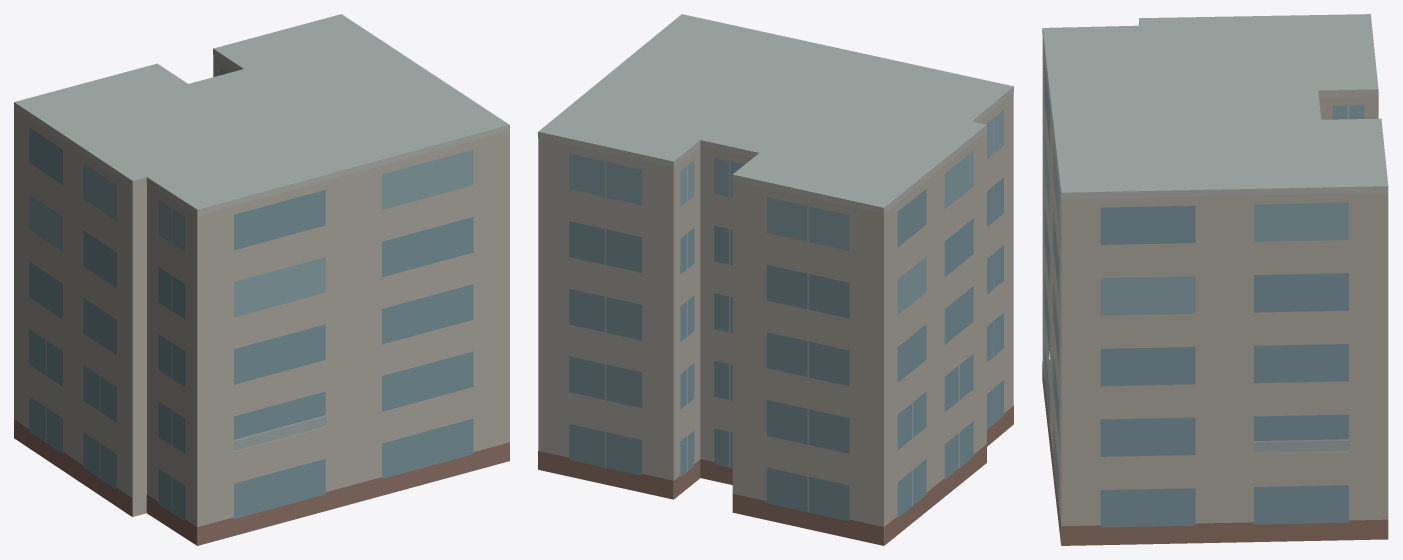
Rendered from survey-upis-32671947.glb.
The picture shows the model from 3 angles, left to right: view 1: azimuth 30°, elevation 25°; view 2: azimuth 150°, elevation 25°; view 3: azimuth 270°, elevation 25°; orthographic projection. The views are drawn at different scales.
Parts seen in each view (by area): view 1: survey-upis-32671947.tmp; view 2: survey-upis-32671947.tmp; view 3: survey-upis-32671947.tmp.
Boxes of the visible parts, <box> form: survey-upis-32671947.tmp: <box>14,14,509,545</box>; survey-upis-32671947.tmp: <box>538,14,1013,545</box>; survey-upis-32671947.tmp: <box>1042,14,1388,545</box>.
Size of the model in its own units: 14.44 by 13.3 by 11.81.
